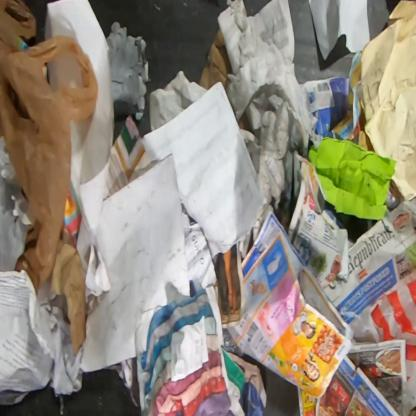soft_plastic: (0, 0, 99, 298), (367, 269, 416, 381)
